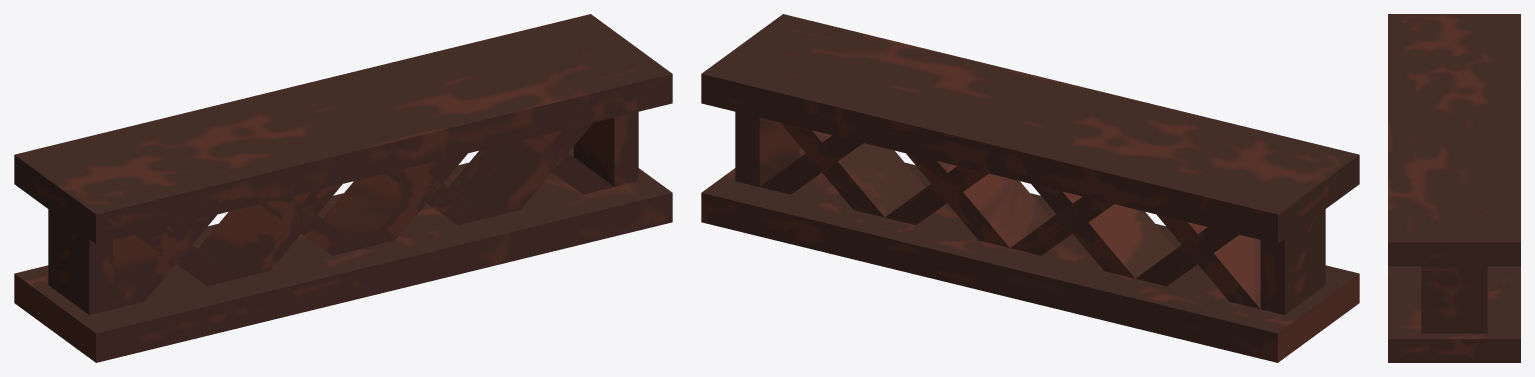
The model's file is scaffolding.fbx.
3 renders of one model, left to right at view 1: azimuth 30°, elevation 25°; view 2: azimuth 150°, elevation 25°; view 3: azimuth 270°, elevation 25°, orthographic. The views are drawn at different scales.
Visible parts, largest first — view 1: Cube; view 2: Cube; view 3: Cube.
Boxes of the visible parts, bbox=[...] form: Cube: bbox=[14, 14, 672, 362]; Cube: bbox=[701, 14, 1359, 362]; Cube: bbox=[1388, 14, 1520, 362].
Size of the model in its own units: 813 by 200 by 200.
